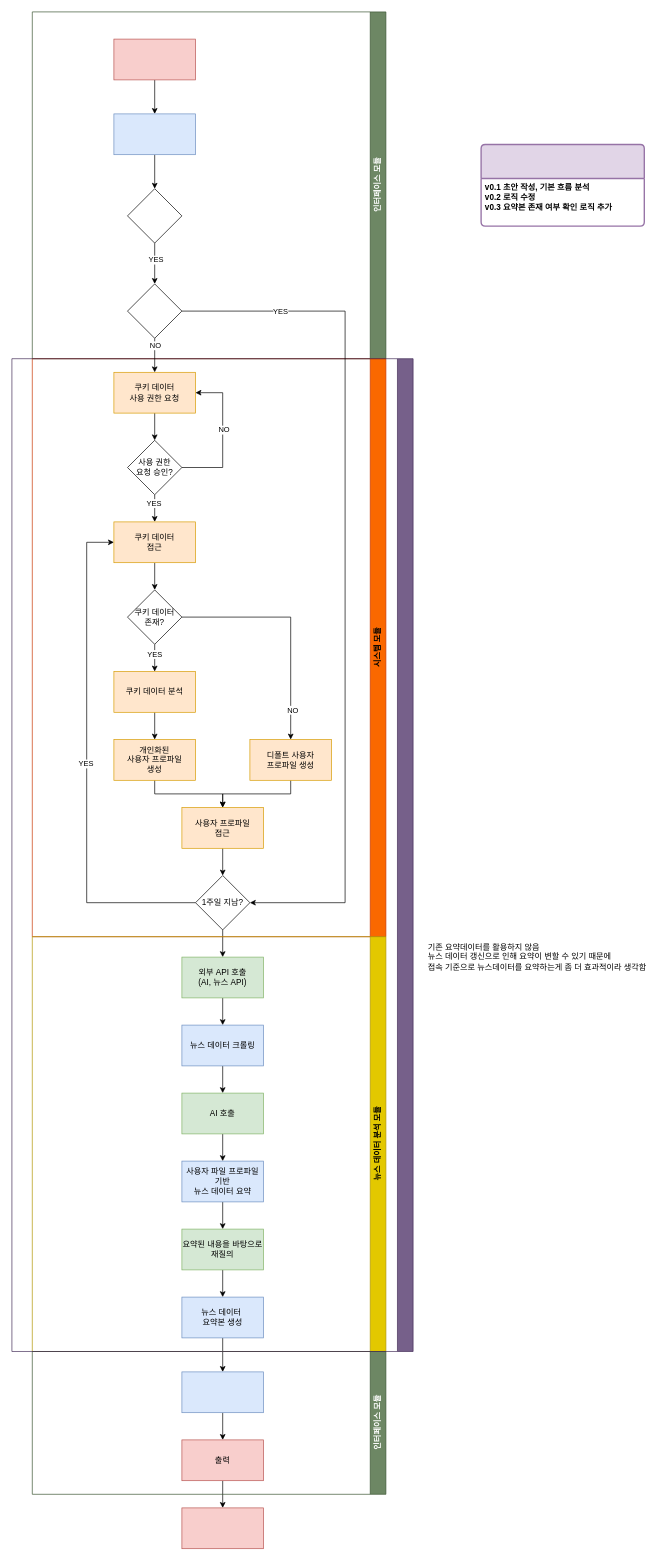
Image size: 670x1561. Some labels were removed from this diagram. The box of each missing label's shape, as (x1, y1, x2, y2) in pixels:
기존의 뉴스데이터 요약본 확인: (113, 113, 196, 155)
뉴스 데이터 요약본 전달: (181, 1371, 264, 1413)
메인 모듈: (11, 358, 413, 1352)
사용자 프로파일(.JSON) 존재?: (127, 283, 182, 338)
생성된지 3시간 이상?: (127, 188, 182, 243)
시작 (접속 등): (113, 38, 196, 80)
이력 관리: (480, 143, 645, 226)
종료: (181, 1507, 264, 1549)
